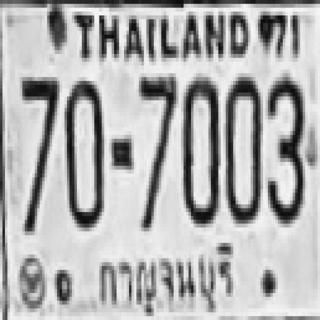N00: (63, 79, 103, 226), (181, 73, 218, 224), (223, 73, 260, 220)
N03: (265, 73, 303, 220)
N07: (20, 75, 57, 229), (138, 73, 175, 227), (20, 75, 57, 198), (20, 73, 57, 177)
P17: (94, 237, 238, 317)
